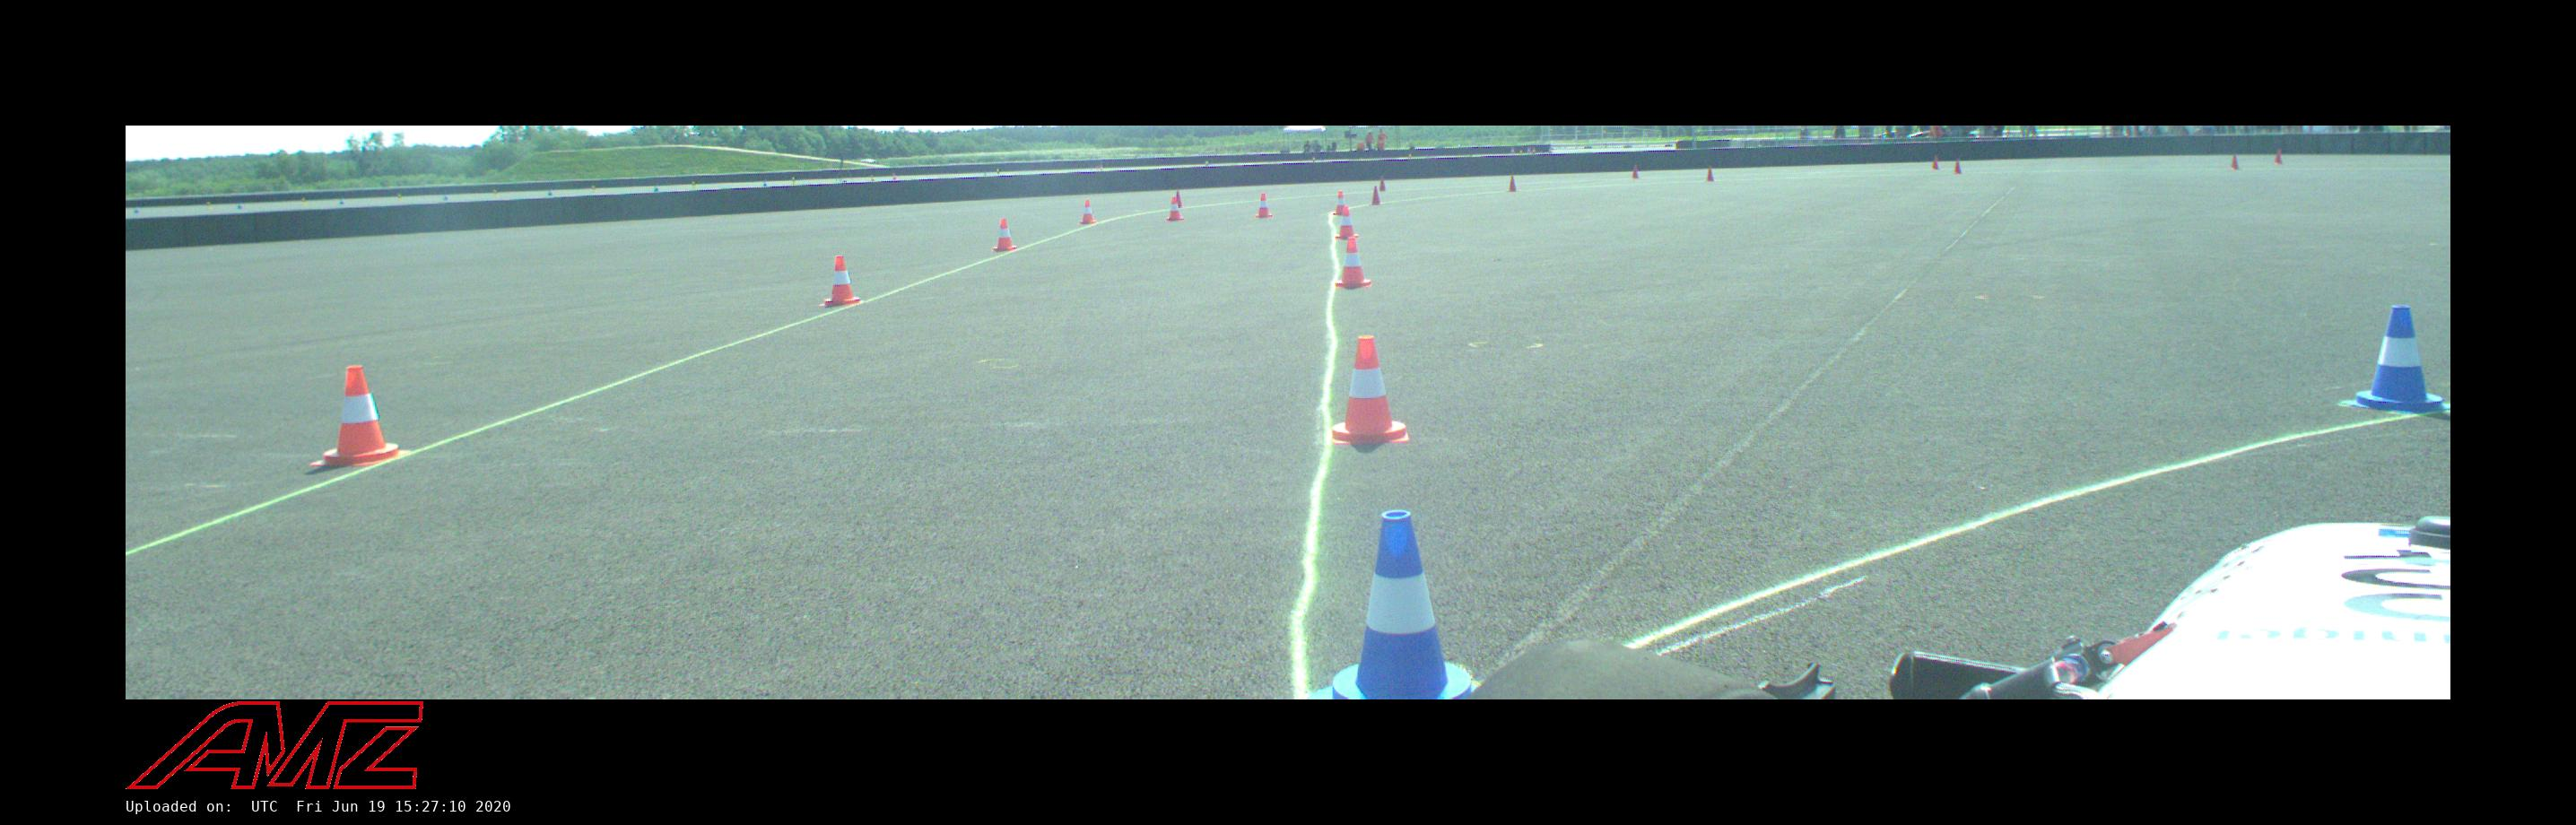blue_cone: (1310, 509, 1478, 699), (2343, 306, 2448, 414), (134, 205, 140, 213), (237, 202, 242, 210), (443, 192, 448, 200), (339, 197, 344, 204), (548, 188, 553, 195), (654, 185, 659, 191), (762, 179, 767, 186)
orange_cone: (311, 366, 410, 465), (1331, 336, 1409, 442), (821, 256, 861, 306), (1336, 239, 1371, 286), (992, 219, 1017, 251), (1336, 207, 1359, 239), (1079, 200, 1096, 224), (1167, 198, 1184, 221), (1256, 194, 1272, 217), (1334, 192, 1344, 214)
unknown_cone: (1371, 186, 1380, 204), (1508, 176, 1517, 192), (1175, 191, 1183, 207), (1954, 160, 1962, 174), (2231, 155, 2239, 169), (1707, 166, 1714, 181), (1632, 165, 1639, 178), (1932, 156, 1939, 169), (2275, 150, 2282, 163), (1379, 178, 1386, 191)
yellow_cone: (396, 194, 403, 201), (205, 202, 212, 209), (492, 189, 498, 197), (301, 198, 307, 205), (591, 185, 596, 192), (692, 181, 696, 188), (791, 177, 796, 184)
